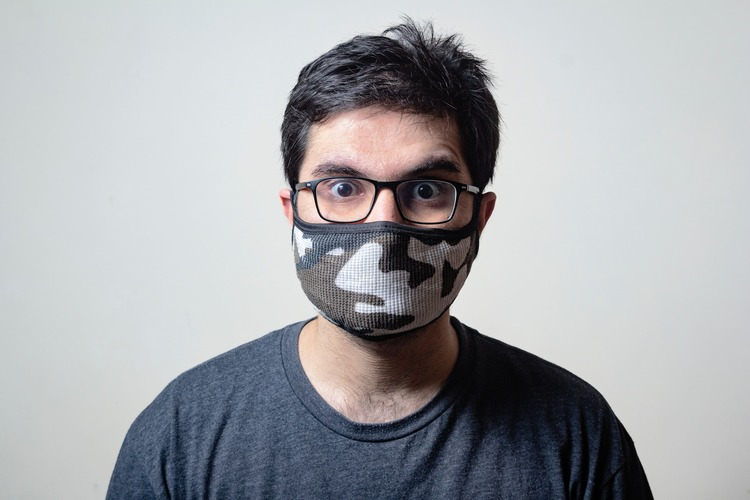with_mask: (292, 128, 475, 338)
